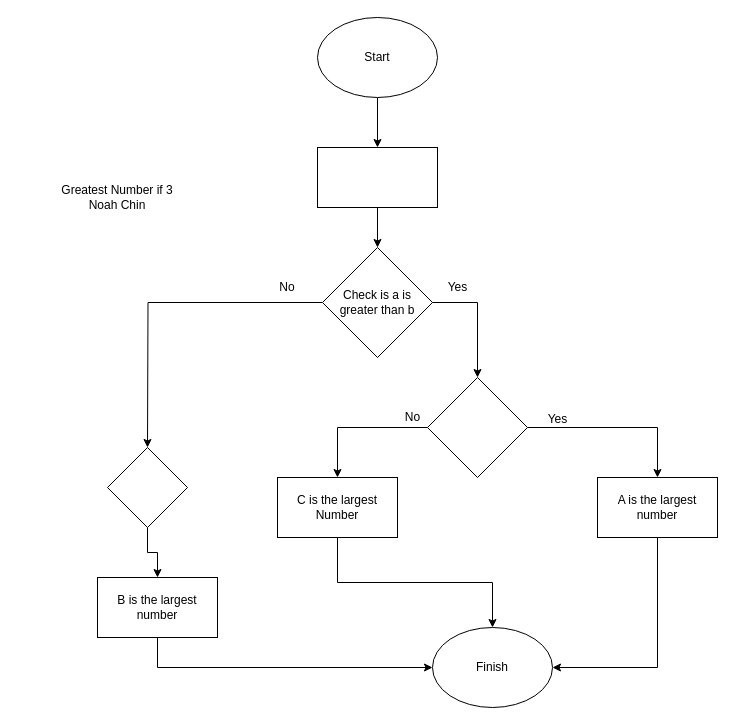
The diagram is 735 pixels wide and 725 high, and some of its shapes have lost their labels. The shapes that lost their labels are listed below. From the top down, each one's box as (x1, y1, x2, y2) in pixels, then its label:
(316, 146, 438, 208): The numbers are represented by variables a,b,c
(426, 376, 528, 478): Check if a is greater than c
(106, 446, 188, 528): Is B greater than C?
